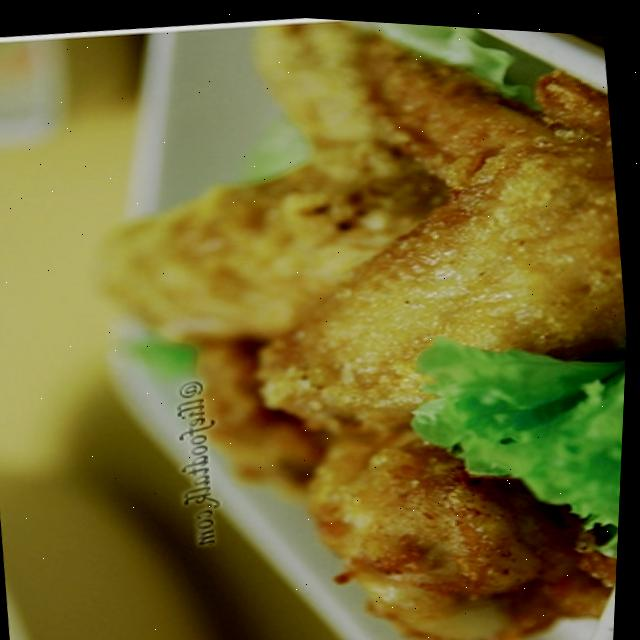鸡肉料理 含炸鸡: (22, 2, 640, 640)
